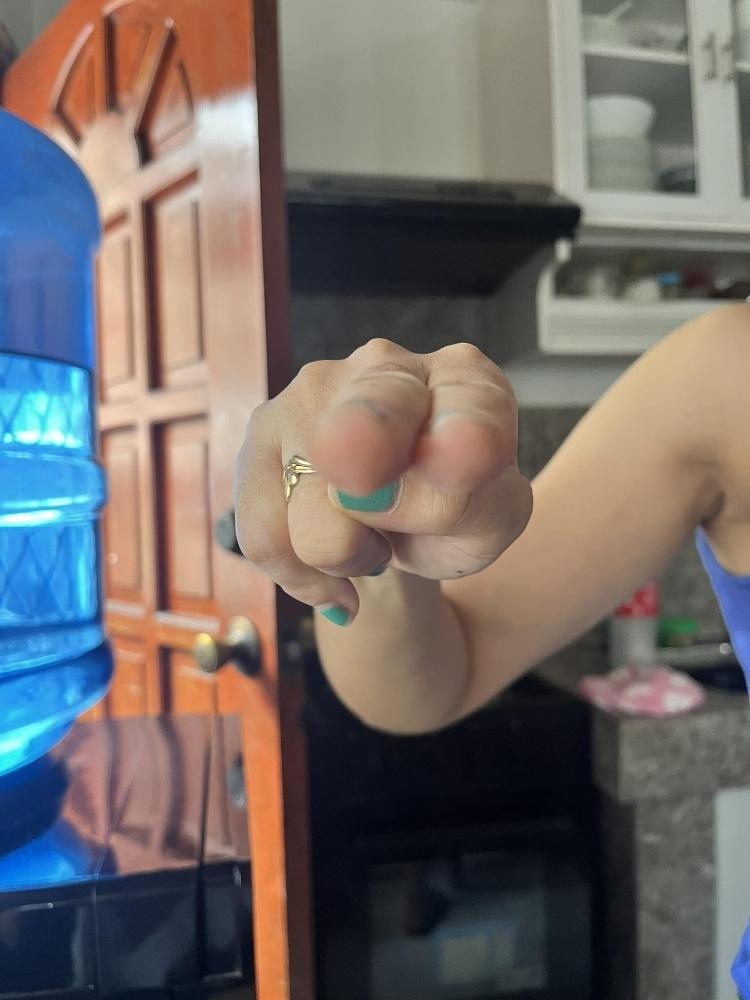n: (236, 328, 533, 627)
